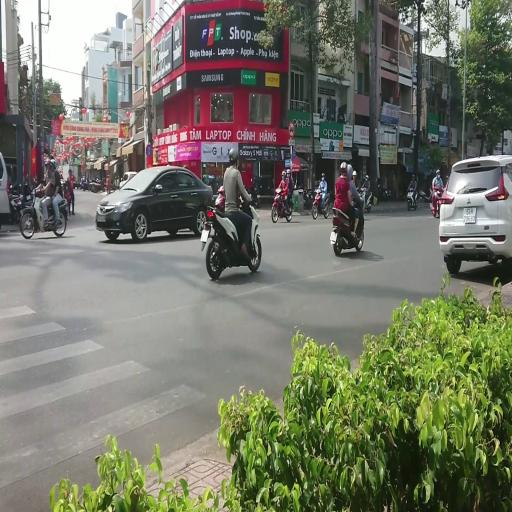bikes: (200, 188, 262, 280), (19, 180, 68, 239), (330, 189, 365, 255), (8, 180, 33, 222), (271, 188, 292, 222), (312, 188, 330, 218), (243, 179, 260, 208), (430, 186, 444, 218), (357, 186, 372, 212), (60, 179, 70, 214), (299, 187, 313, 208), (407, 186, 418, 210), (89, 176, 105, 192), (419, 188, 432, 202)
helmet: (228, 148, 238, 162), (340, 162, 347, 176), (346, 164, 352, 180), (32, 173, 38, 185), (50, 159, 56, 169), (281, 170, 286, 180), (44, 158, 50, 166), (218, 186, 224, 194), (352, 170, 357, 177), (286, 169, 291, 176), (436, 169, 440, 176), (321, 172, 325, 178), (68, 168, 72, 174), (81, 176, 85, 182), (251, 177, 254, 184), (365, 175, 369, 180), (412, 175, 415, 180)
